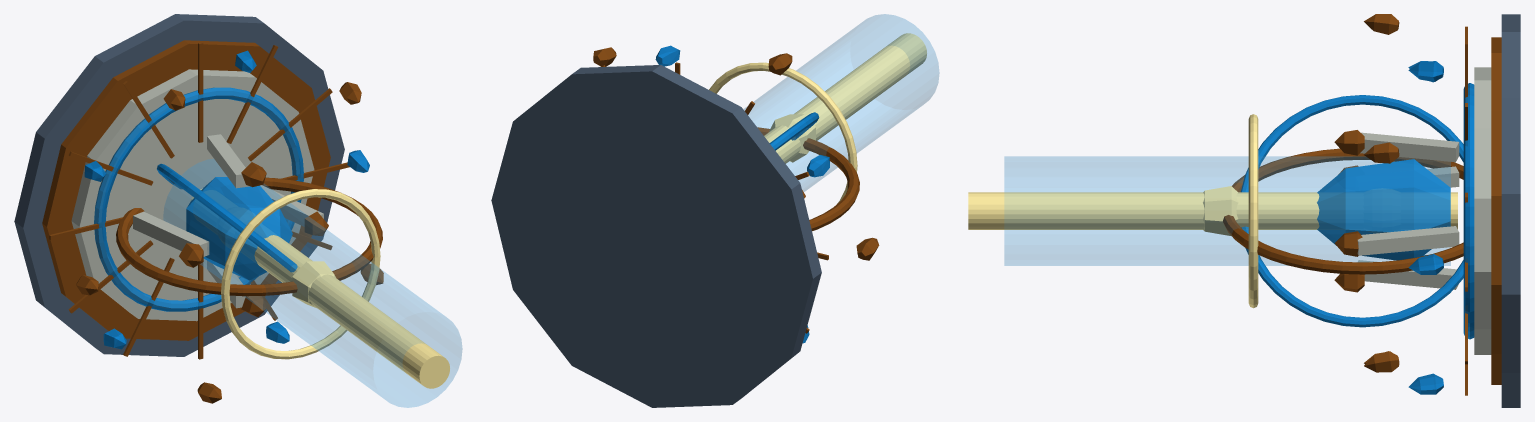
Rendered from HolyLight_Shrine.obj.
3 views of the same model, side by side, from view 1: azimuth 30°, elevation 25°; view 2: azimuth 150°, elevation 25°; view 3: azimuth 270°, elevation 25° (orthographic). The views are drawn at different scales.
Parts seen in each view (by area): view 1: HolyBeamOuter, BaseInner, BaseLower, BaseGold, HolyBeamInner, BaseHalo, HolyCrystal, HaloVertical_A, HaloCrown, HaloVertical_B, Prong_3, Prong_2 (+15 smaller); view 2: BaseLower, HolyBeamOuter, HolyBeamInner, HaloCrown, HaloVertical_A, HaloVertical_B, CrownCrystal, RuneShard_5, RuneShard_4; view 3: HolyBeamOuter, HolyBeamInner, HolyCrystal, BaseLower, HaloVertical_B, BaseInner, HaloVertical_A, BaseGold, BaseHalo, Prong_1, HaloCrown, Prong_2 (+9 smaller).
Boxes of the visible parts, left/top/right/bottom form: HolyBeamOuter: left=163, top=159, right=462, bottom=407; BaseInner: left=71, top=69, right=314, bottom=321; BaseLower: left=14, top=14, right=344, bottom=356; BaseGold: left=42, top=40, right=330, bottom=340; HolyBeamInner: left=190, top=188, right=449, bottom=388; BaseHalo: left=94, top=87, right=303, bottom=311; HolyCrystal: left=186, top=177, right=292, bottom=280; HaloVertical_A: left=116, top=177, right=382, bottom=296; HaloCrown: left=221, top=189, right=380, bottom=359; HaloVertical_B: left=157, top=163, right=297, bottom=272; Prong_3: left=133, top=211, right=209, bottom=256; Prong_2: left=207, top=134, right=249, bottom=188; BaseLower: left=491, top=65, right=821, bottom=407; HolyBeamOuter: left=743, top=14, right=939, bottom=191; HolyBeamInner: left=764, top=33, right=926, bottom=163; HaloCrown: left=709, top=62, right=857, bottom=203; HaloVertical_A: left=757, top=127, right=859, bottom=231; HaloVertical_B: left=769, top=112, right=819, bottom=150; CrownCrystal: left=769, top=114, right=815, bottom=162; RuneShard_5: left=807, top=155, right=829, bottom=177; RuneShard_4: left=768, top=53, right=792, bottom=75; HolyBeamOuter: left=1004, top=156, right=1450, bottom=265; HolyBeamInner: left=968, top=192, right=1457, bottom=229; HolyCrystal: left=1317, top=159, right=1450, bottom=260; BaseLower: left=1501, top=14, right=1520, bottom=407; HaloVertical_B: left=1240, top=95, right=1463, bottom=327; BaseInner: left=1474, top=67, right=1491, bottom=354; HaloVertical_A: left=1223, top=148, right=1463, bottom=274; BaseGold: left=1491, top=37, right=1501, bottom=384; BaseHalo: left=1463, top=83, right=1474, bottom=339; Prong_1: left=1357, top=226, right=1459, bottom=255; HaloCrown: left=1248, top=114, right=1258, bottom=308; Prong_2: left=1360, top=132, right=1459, bottom=162.
Bounding box in the file's own units: 4.6 × 4.6 × 6.43.
